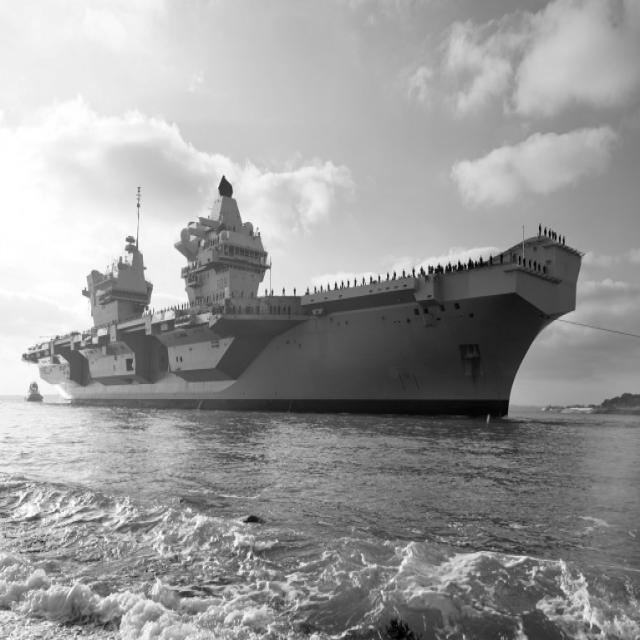Portanaves: (19, 168, 587, 430)
